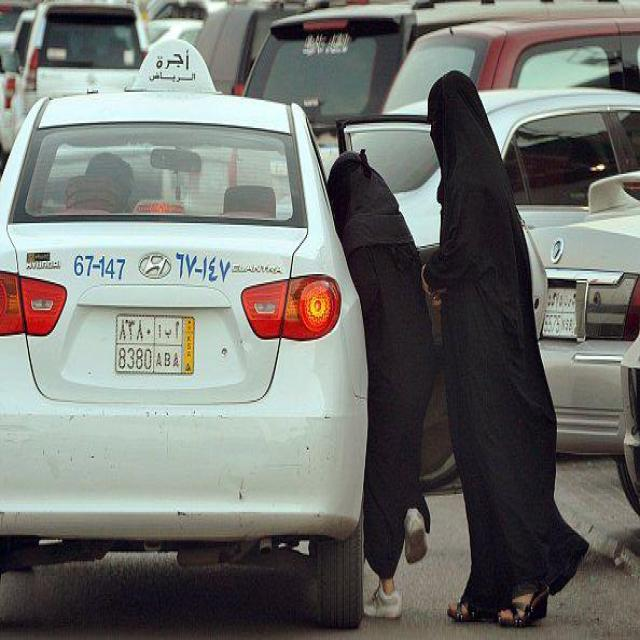license_plate: (112, 308, 195, 378), (542, 284, 577, 338)
